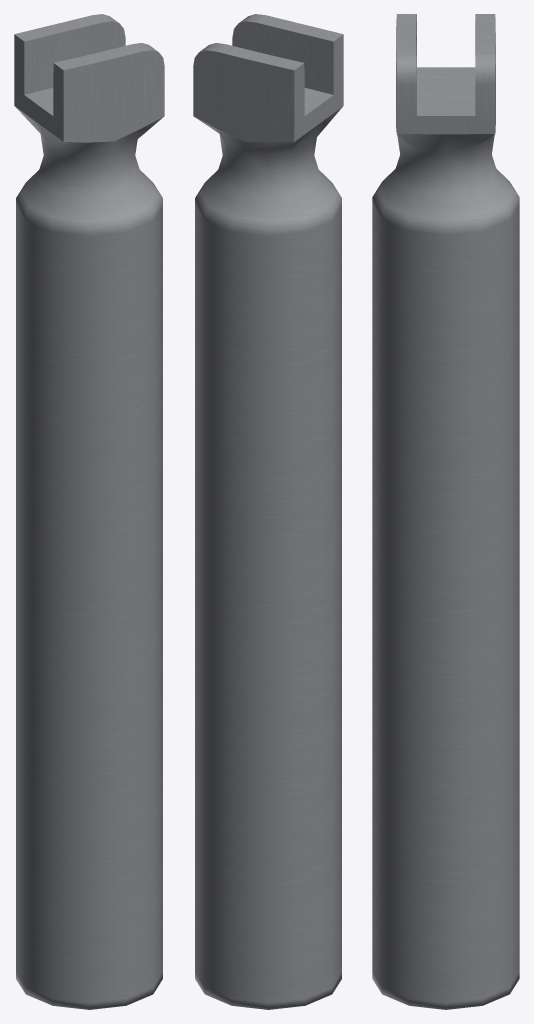
File: 有CC的喉頭鏡-握把.fbx
The picture shows the model from 3 angles, left to right: view 1: azimuth 30°, elevation 25°; view 2: azimuth 150°, elevation 25°; view 3: azimuth 270°, elevation 25°; orthographic projection.
Visible parts, largest first — view 1: Laryngoscope; view 2: Laryngoscope; view 3: Laryngoscope.
Part boxes in pixels (x1,y1,x2,y2): Laryngoscope: (14,14,164,1009); Laryngoscope: (193,14,343,1009); Laryngoscope: (372,14,519,1009).
Size of the model in its own units: 3.81 by 26.82 by 3.81.
